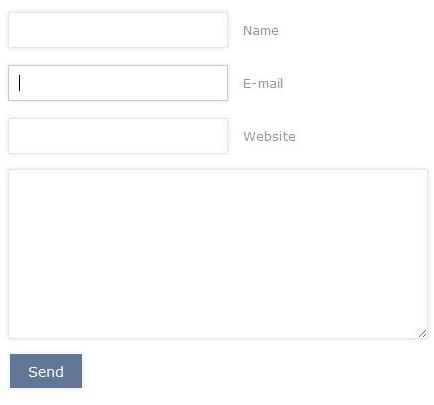button: (9, 353, 83, 389)
field: (7, 169, 429, 339), (6, 11, 230, 48), (7, 64, 229, 101), (8, 117, 229, 154)
field_with_label: (5, 115, 295, 155), (6, 62, 282, 103), (4, 10, 280, 49)
